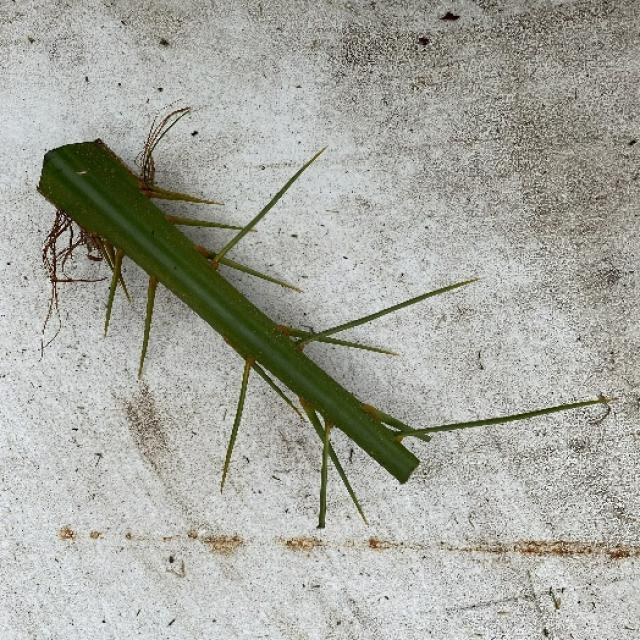organik: (38, 116, 440, 514)
